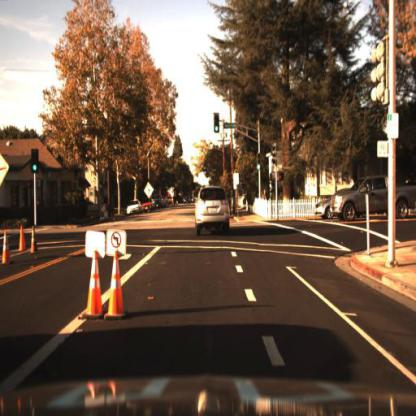car: (331, 176, 416, 220), (196, 186, 234, 235), (314, 188, 339, 224), (315, 195, 331, 216), (139, 194, 153, 215), (126, 199, 142, 217), (128, 198, 143, 217)
trafficLight-Green: (29, 150, 40, 179), (214, 113, 221, 137), (256, 151, 264, 172), (257, 160, 262, 176)
